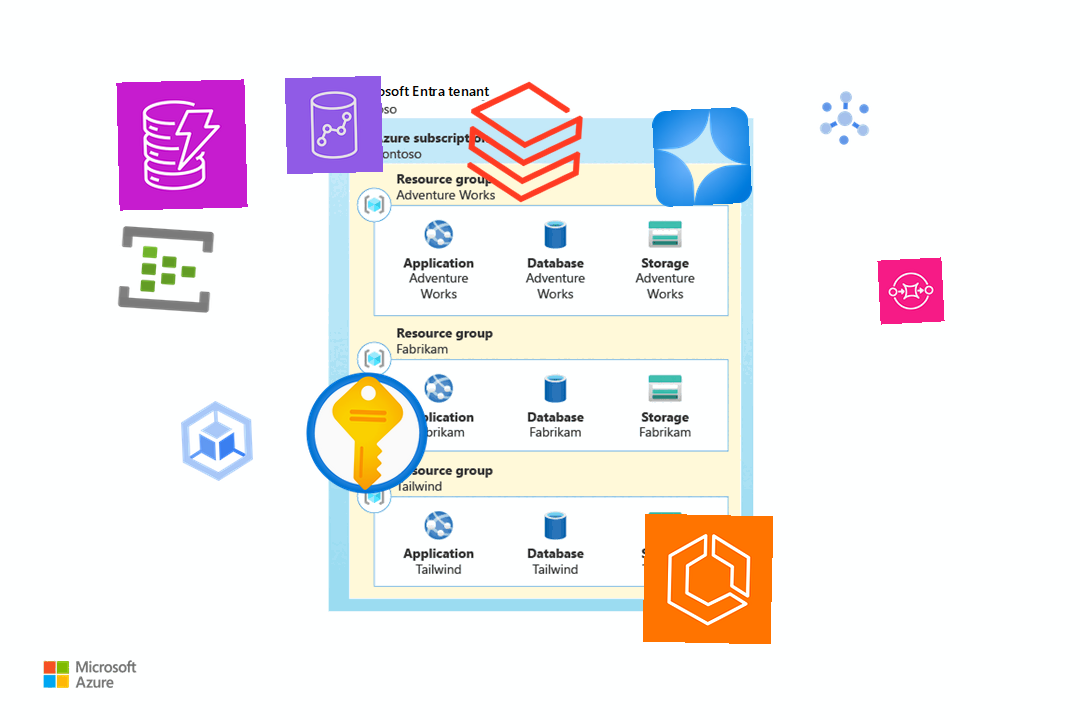aws_amazon_dynamodb: (116, 79, 248, 211)
aws_amazon_elastic_container_service: (642, 513, 774, 645)
aws_amazon_redshift: (284, 75, 384, 175)
aws_amazon_simple_queue_service: (877, 257, 945, 325)
azure_databricks: (456, 73, 594, 211)
azure_event_hubs: (114, 217, 218, 321)
azure_key_vaults: (300, 366, 434, 500)
azure_openai: (651, 106, 753, 208)
gcp_google_kubernetes_engine: (166, 390, 268, 492)
gcp_pubsub: (811, 84, 879, 152)
